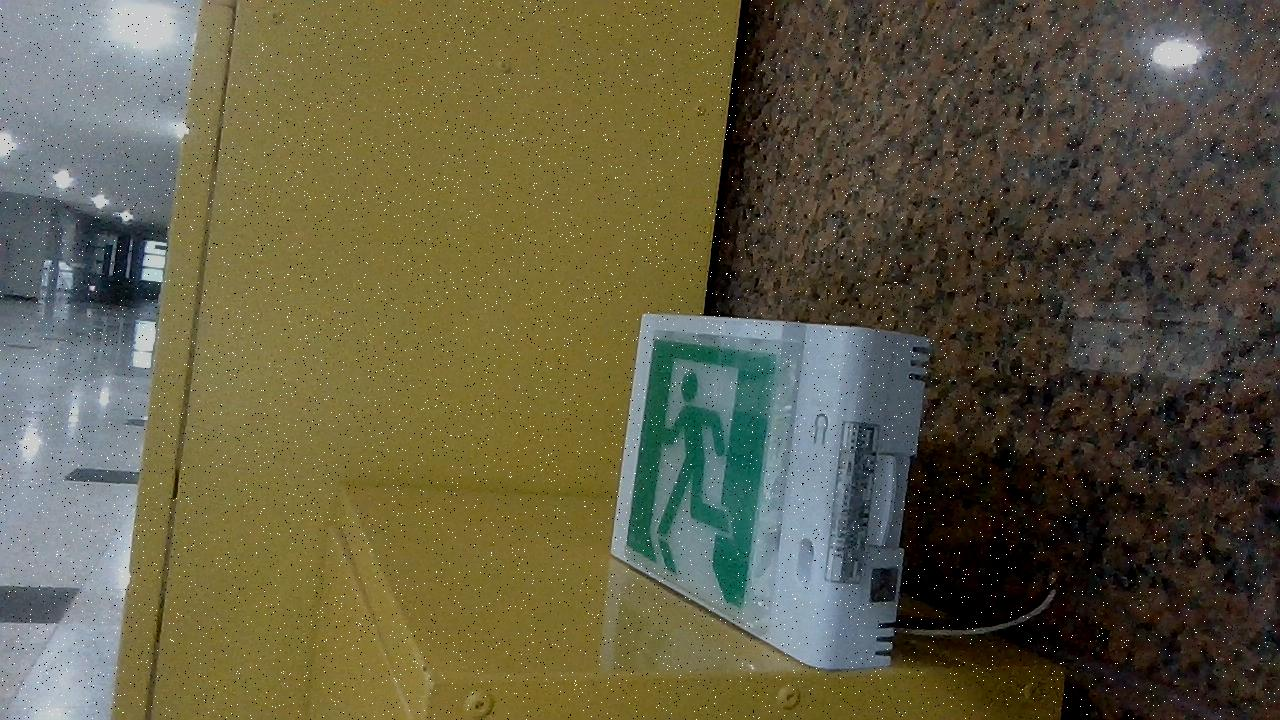emergency_exit: (609, 311, 934, 671)
